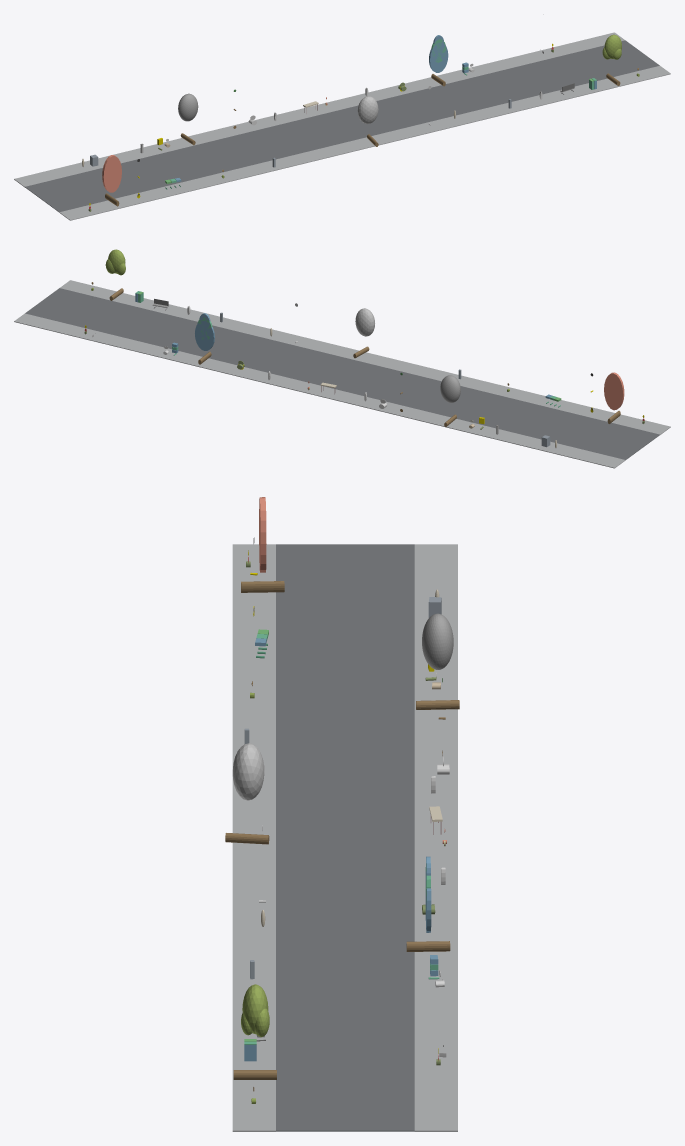
The picture shows the model from 3 angles, top to bottom: view 1: azimuth 30°, elevation 25°; view 2: azimuth 150°, elevation 25°; view 3: azimuth 270°, elevation 25°; orthographic projection. The views are drawn at different scales.
Parts seen in each view (by area): view 1: road_slab, sidewalk_left, sidewalk_right, inst_0012, inst_0015, inst_0014, inst_0013, inst_0016; view 2: road_slab, sidewalk_right, sidewalk_left, inst_0012, inst_0015, inst_0014, inst_0013, inst_0016; view 3: road_slab, sidewalk_right, sidewalk_left, inst_0014, inst_0013, inst_0016, inst_0012, inst_0015.
Boxes of the visible parts, x1=… form: road_slab: x1=25, y1=40, x2=659, y2=212; sidewalk_left: x1=59, y1=66, x2=670, y2=220; sidewalk_right: x1=14, y1=32, x2=624, y2=187; inst_0012: x1=102, y1=155, x2=121, y2=206; inst_0015: x1=429, y1=35, x2=448, y2=86; inst_0014: x1=357, y1=96, x2=378, y2=146; inst_0013: x1=178, y1=93, x2=198, y2=145; inst_0016: x1=602, y1=34, x2=621, y2=85; road_slab: x1=25, y1=288, x2=659, y2=460; sidewalk_right: x1=14, y1=313, x2=625, y2=468; sidewalk_left: x1=60, y1=280, x2=670, y2=434; inst_0012: x1=604, y1=372, x2=624, y2=423; inst_0015: x1=195, y1=313, x2=214, y2=364; inst_0014: x1=353, y1=308, x2=374, y2=358; inst_0013: x1=440, y1=375, x2=460, y2=426; inst_0016: x1=105, y1=249, x2=125, y2=300; road_slab: x1=276, y1=544, x2=414, y2=1131; sidewalk_right: x1=414, y1=544, x2=457, y2=1131; sidewalk_left: x1=232, y1=544, x2=275, y2=1131; inst_0014: x1=225, y1=743, x2=269, y2=844; inst_0013: x1=416, y1=613, x2=459, y2=709; inst_0016: x1=233, y1=984, x2=276, y2=1079; inst_0012: x1=241, y1=497, x2=284, y2=592; inst_0015: x1=406, y1=856, x2=450, y2=951.
Bounding box in the file's own units: 80 × 6.08 × 13.51.
